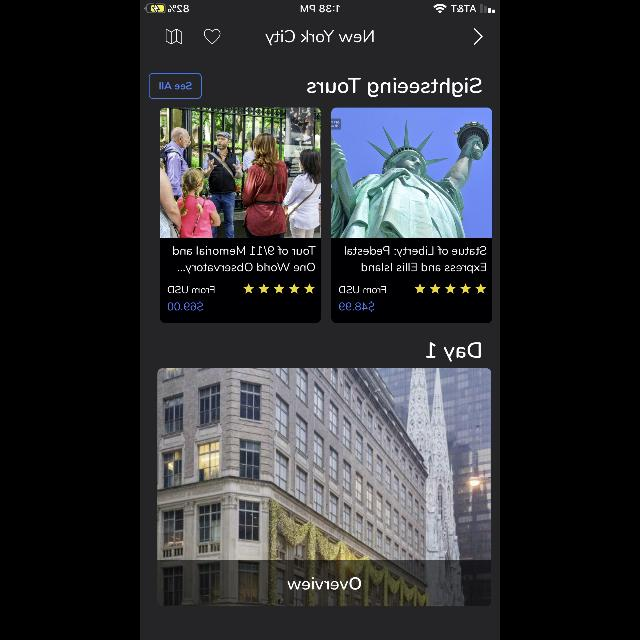icon: (414, 284, 486, 294), (243, 284, 314, 294), (166, 29, 182, 45), (203, 30, 220, 44), (474, 29, 482, 45)
image: (158, 369, 490, 607), (160, 108, 320, 238), (331, 108, 491, 238)
text: (306, 78, 482, 98), (266, 30, 374, 46), (344, 246, 486, 258), (178, 262, 314, 274), (361, 262, 485, 274), (173, 246, 315, 254), (426, 342, 480, 362), (288, 577, 360, 589), (168, 286, 214, 294), (339, 286, 385, 294), (338, 302, 374, 312), (168, 302, 202, 312)
textbutton: (148, 73, 202, 99)
uppertaskbar: (140, 0, 500, 14)
